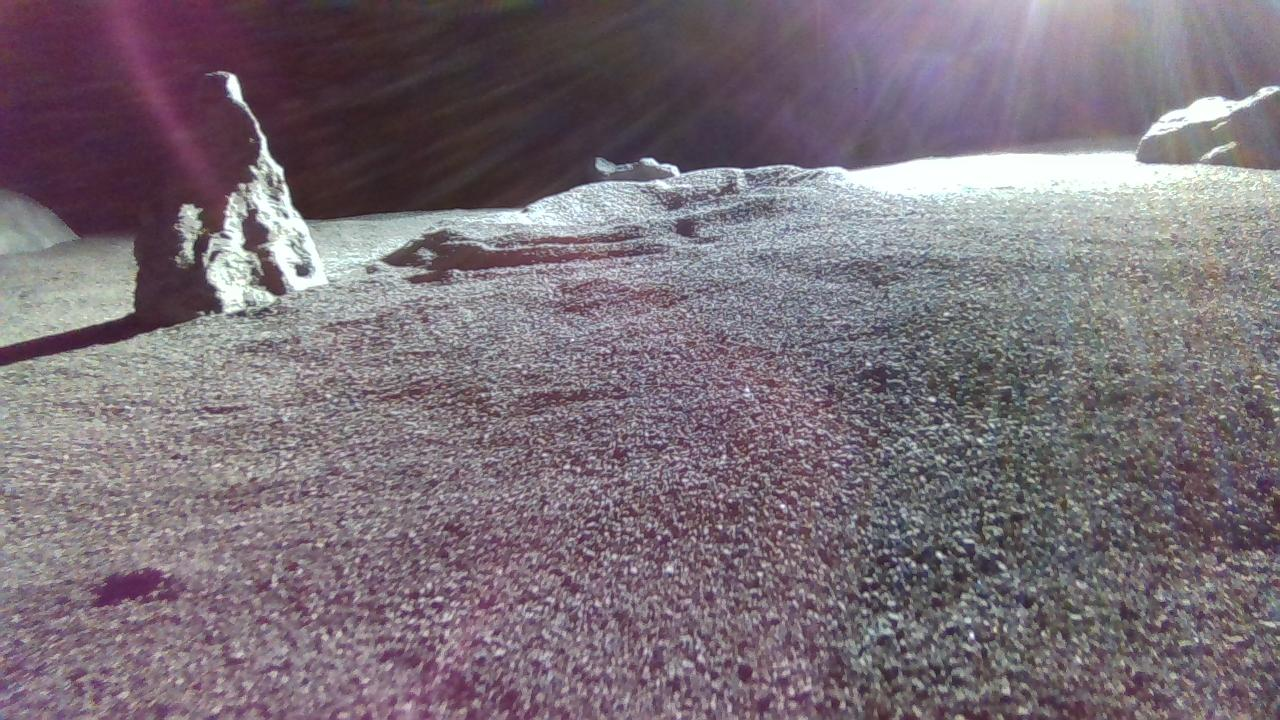rock: (133, 70, 327, 325), (1139, 86, 1280, 167), (0, 188, 78, 254), (593, 156, 681, 180)
